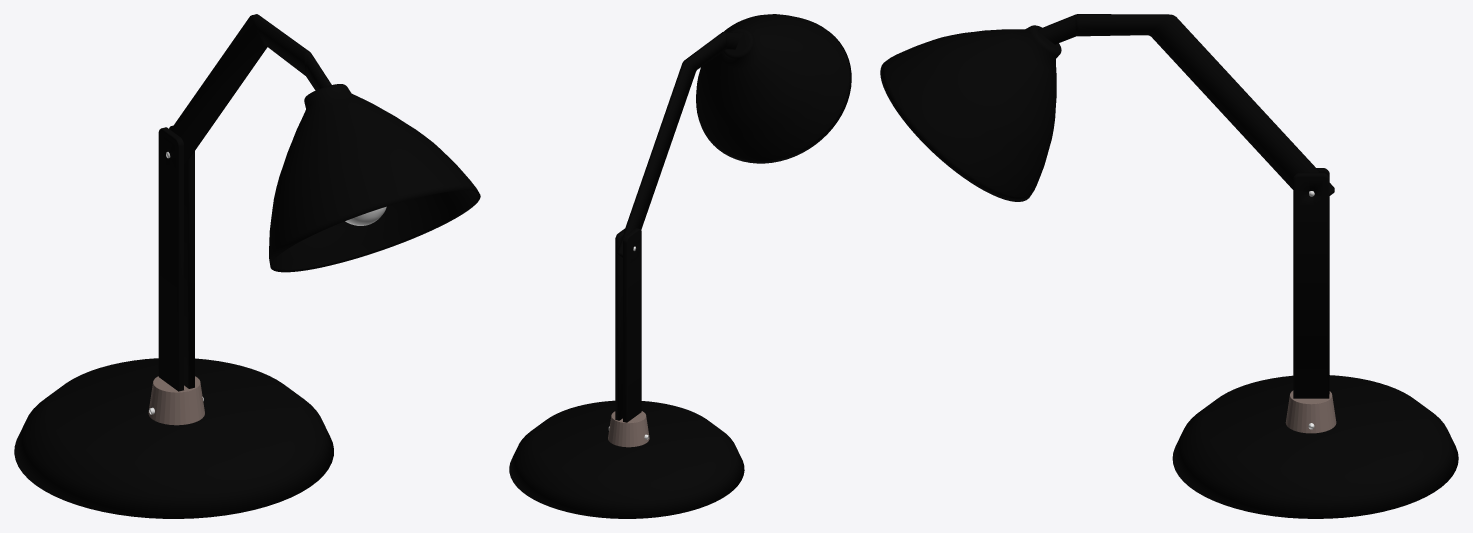
Rendered from LampWithBulb.fbx.
3 renders of one model, left to right at view 1: azimuth 30°, elevation 25°; view 2: azimuth 150°, elevation 25°; view 3: azimuth 270°, elevation 25°, orthographic. The views are drawn at different scales.
Visible parts, largest first — view 1: Base, Schirm, Arm1, Arm2, Circle.002, Fuß; view 2: Base, Schirm, Arm2, Arm1, Circle.002, Fuß; view 3: Base, Schirm, Arm2, Circle.002, Fuß.
Part boxes in pixels (x1,y1,x2,y2): Base: (14, 358, 333, 518); Schirm: (269, 84, 480, 272); Arm1: (158, 127, 183, 391); Arm2: (170, 14, 331, 165); Circle.002: (169, 125, 194, 388); Fuß: (148, 376, 204, 425); Base: (509, 400, 744, 518); Schirm: (696, 14, 851, 163); Arm2: (617, 32, 742, 258); Arm1: (623, 228, 641, 422); Circle.002: (615, 228, 624, 420); Fuß: (608, 411, 649, 447); Base: (1172, 375, 1458, 518); Schirm: (880, 25, 1061, 201); Arm2: (1038, 14, 1334, 195); Circle.002: (1293, 172, 1329, 398); Fuß: (1285, 390, 1336, 433).
Bounding box in the file's own units: 200 × 342 × 404.
